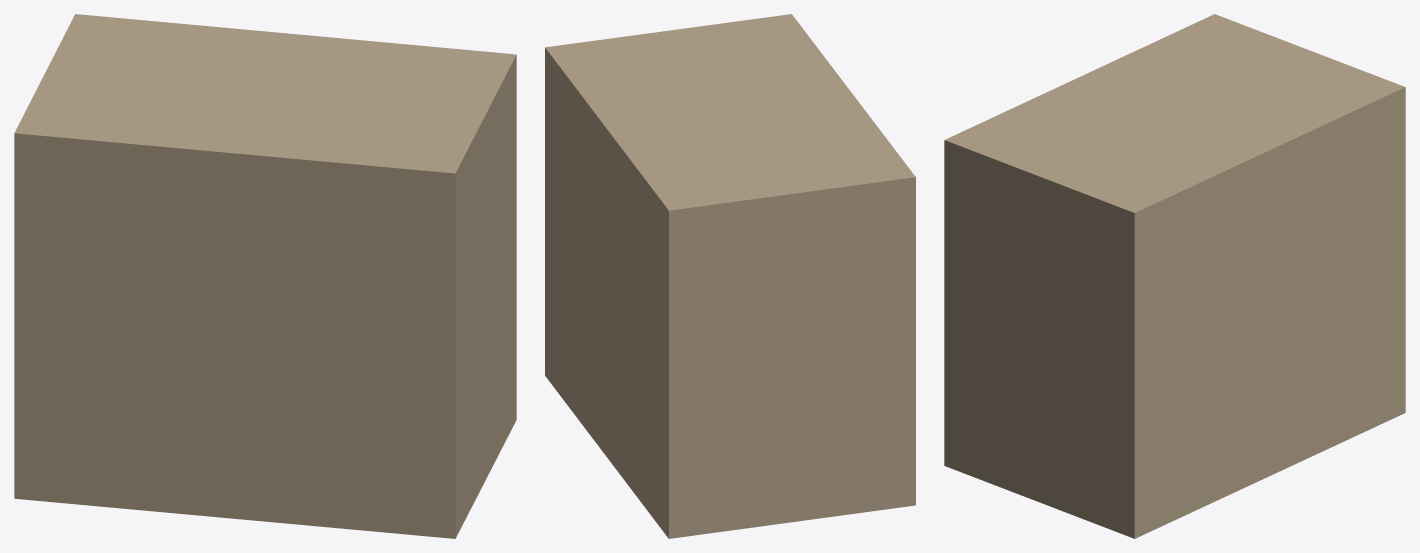
File: bld_101374642.dae
3 views of the same model, side by side, from view 1: azimuth 30°, elevation 25°; view 2: azimuth 150°, elevation 25°; view 3: azimuth 270°, elevation 25° (orthographic). The views are drawn at different scales.
Visible parts, largest first — view 1: bld_101374642; view 2: bld_101374642; view 3: bld_101374642.
Part boxes in pixels (<box>): bld_101374642: <box>14,14,516,538</box>; bld_101374642: <box>545,14,915,538</box>; bld_101374642: <box>944,14,1405,538</box>.
Bounding box in the file's own units: 10.48 × 10.26 × 8.
